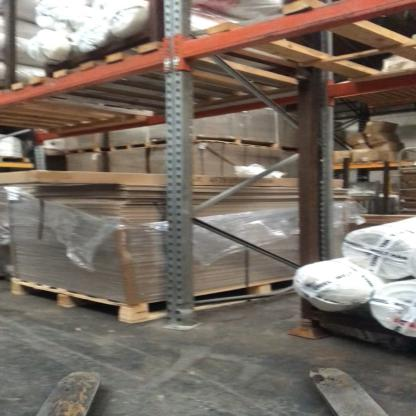vertical_damage: (158, 284, 212, 333)
